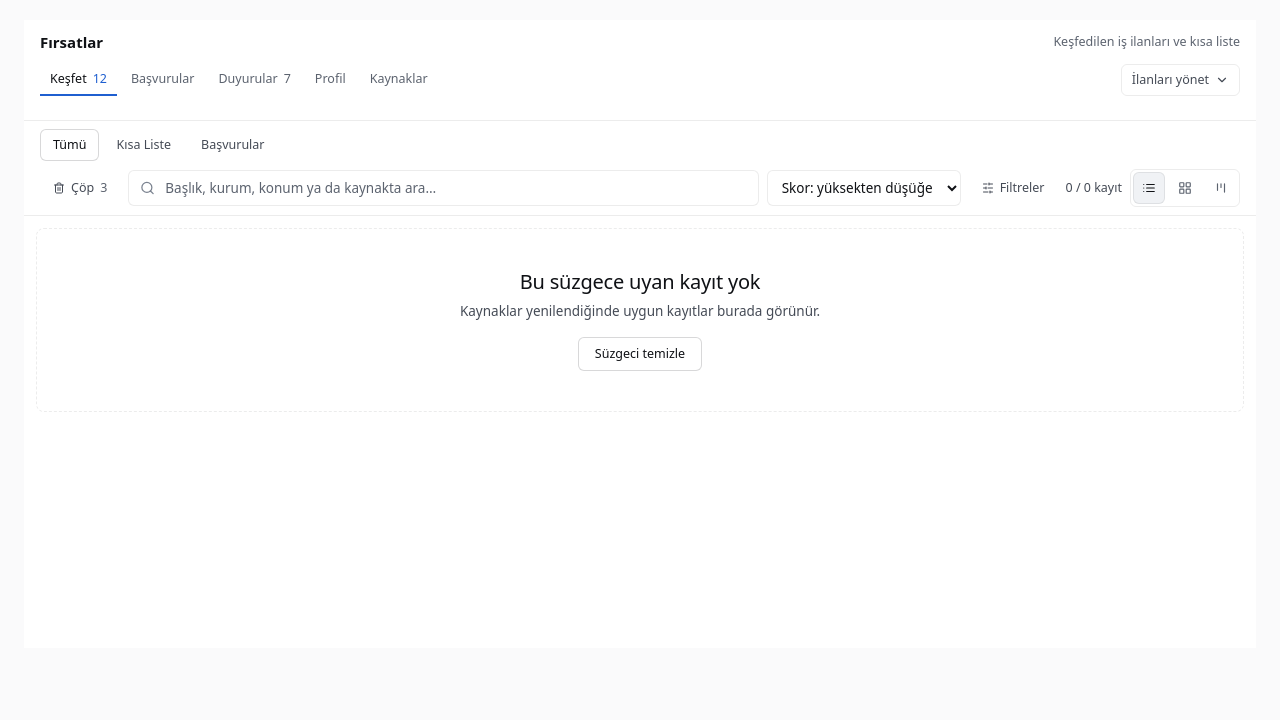
Test: opportunity search input › 'bilinmiyor' çalışma biçimi filtresi tek kez gösterilir
Step 1. Click the button "Filtreler" → point(1013, 188), box [969, 172, 1058, 204]
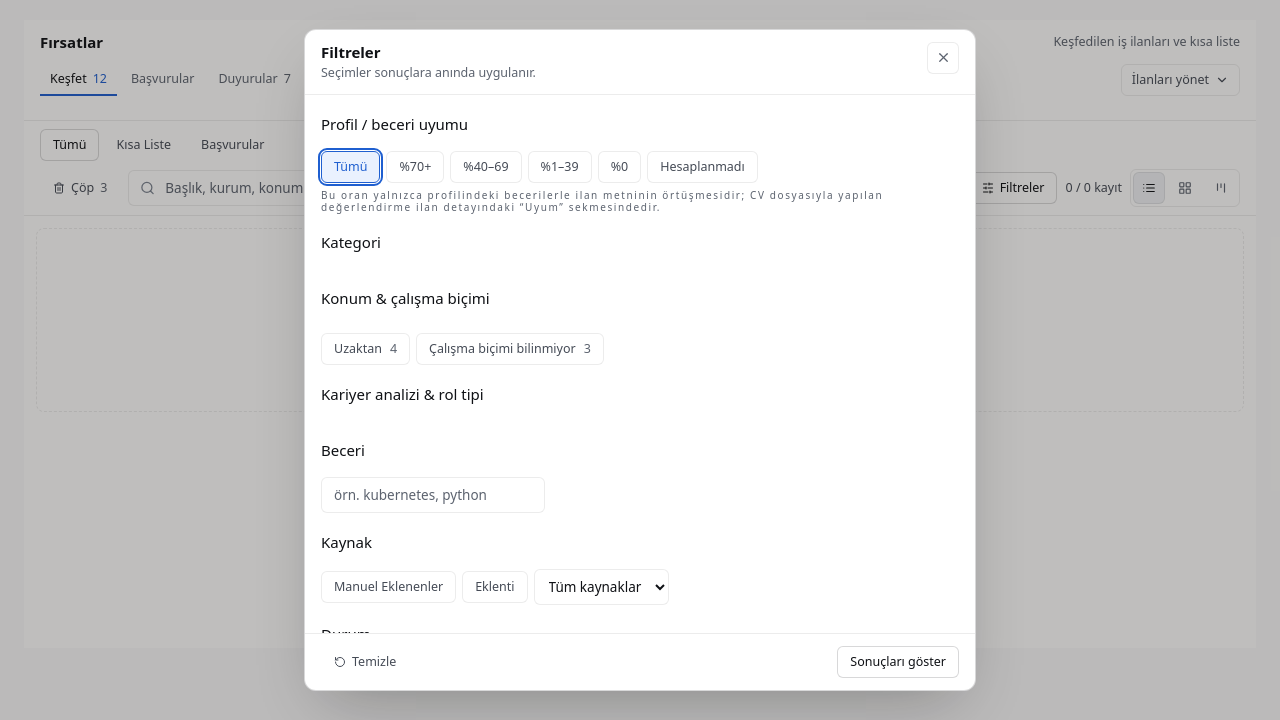
expect the number of buttons "Çalışma biçimi bilinmiyor 3" is 1: met, box [416, 333, 604, 365]
